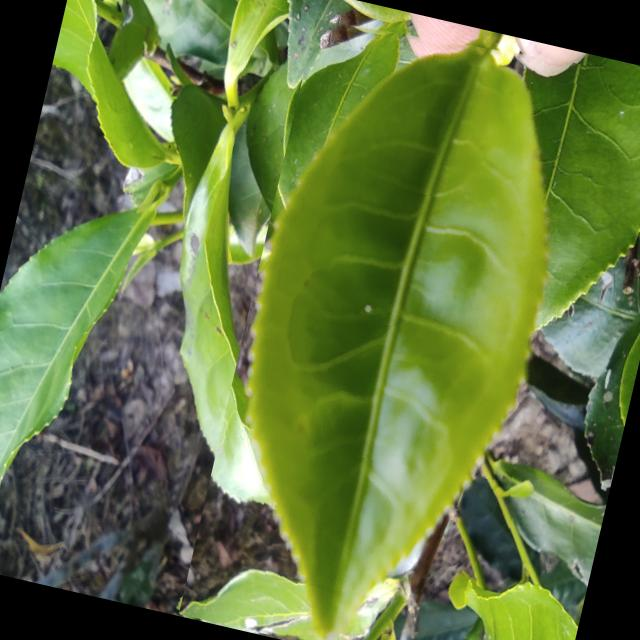Category B 2-4 days: (177, 1, 614, 640)
